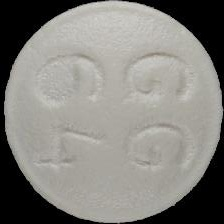63629-3645: (0, 0, 224, 224)
